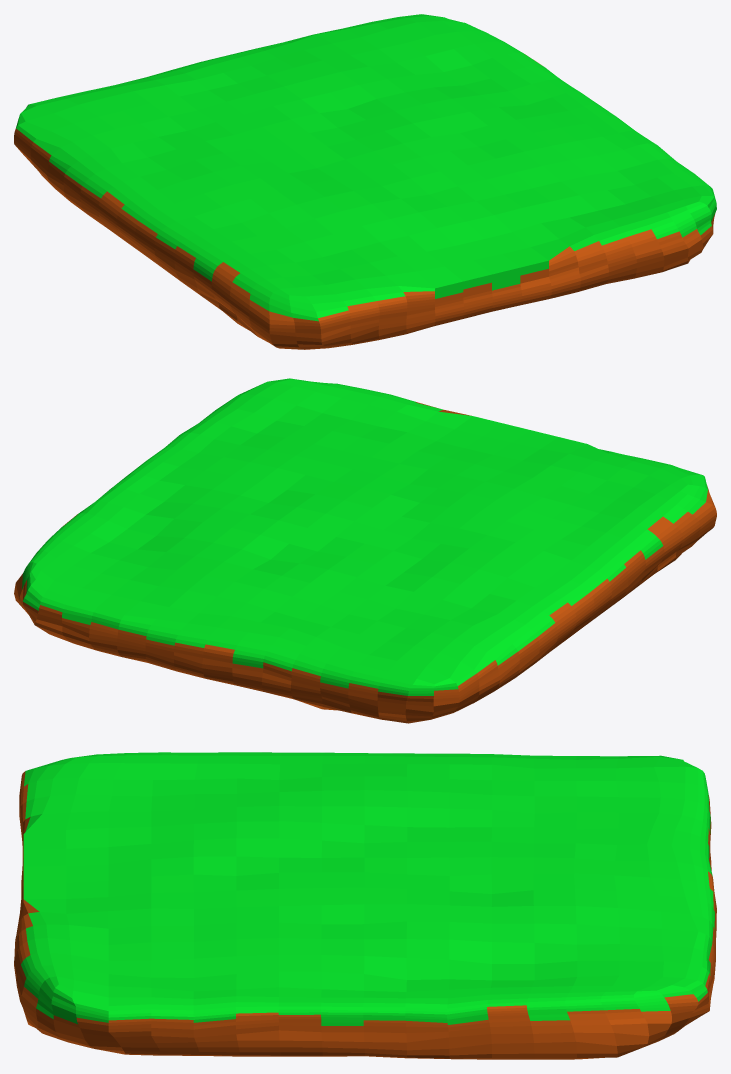
The model's file is big_platform.fbx.
The picture shows the model from 3 angles, top to bottom: view 1: azimuth 30°, elevation 25°; view 2: azimuth 150°, elevation 25°; view 3: azimuth 270°, elevation 25°; orthographic projection. The views are drawn at different scales.
Parts seen in each view (by area): view 1: Cube; view 2: Cube; view 3: Cube.
Boxes of the visible parts, <box> form: Cube: <box>14,14,716,349</box>; Cube: <box>14,378,716,723</box>; Cube: <box>14,752,716,1059</box>.
Size of the model in its own units: 860 by 99.52 by 955.
